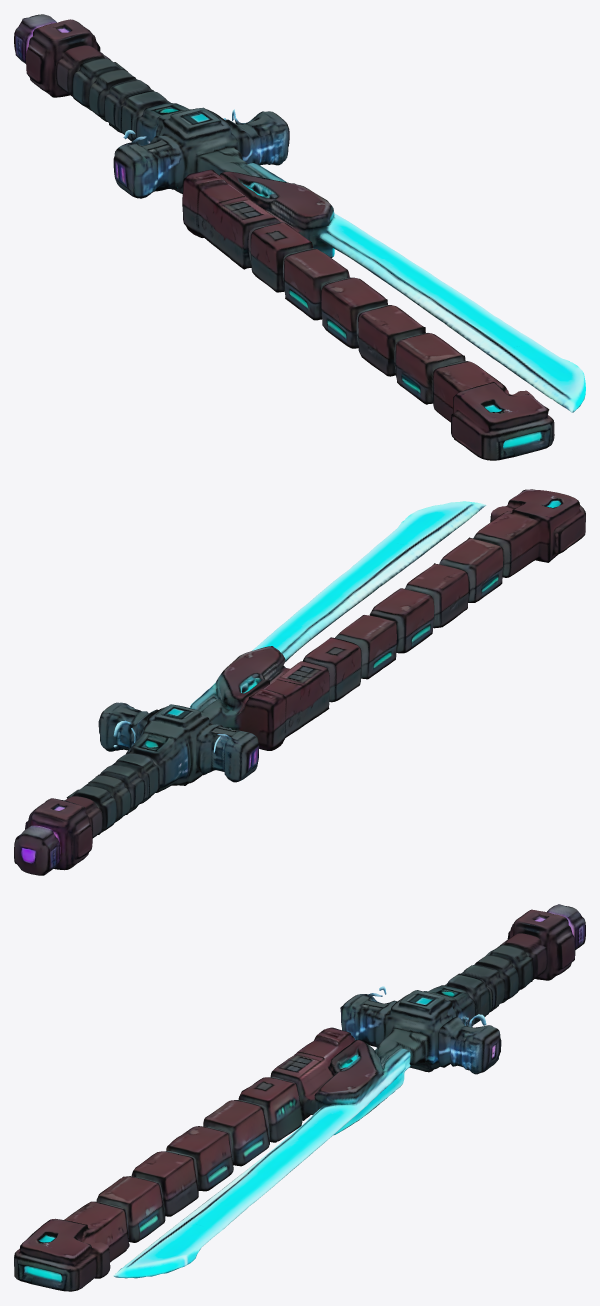
The model's file is melee_katana.fbx.
3 views of the same model, one above another, from view 1: azimuth 30°, elevation 25°; view 2: azimuth 150°, elevation 25°; view 3: azimuth 330°, elevation 25° (orthographic). The views are drawn at different scales.
Parts seen in each view (by area): view 1: model; view 2: model; view 3: model.
Boxes of the visible parts, left/top/right/bottom form: model: left=14, top=14, right=585, bottom=460; model: left=14, top=489, right=585, bottom=875; model: left=14, top=904, right=585, bottom=1291.
Bounding box in the file's own units: 33.86 × 13.9 × 190.
